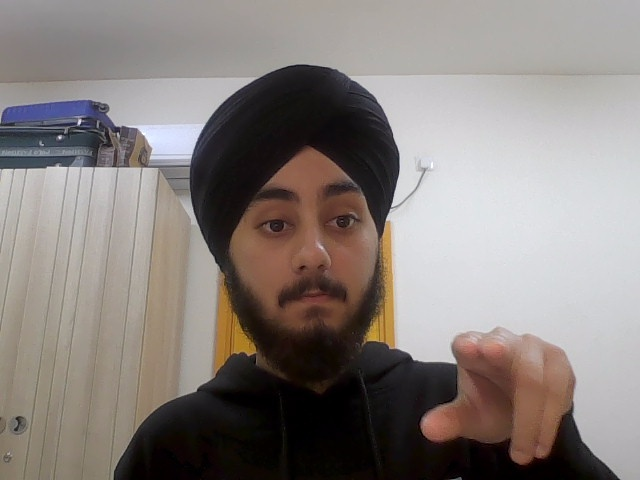No: (420, 322, 593, 466)
